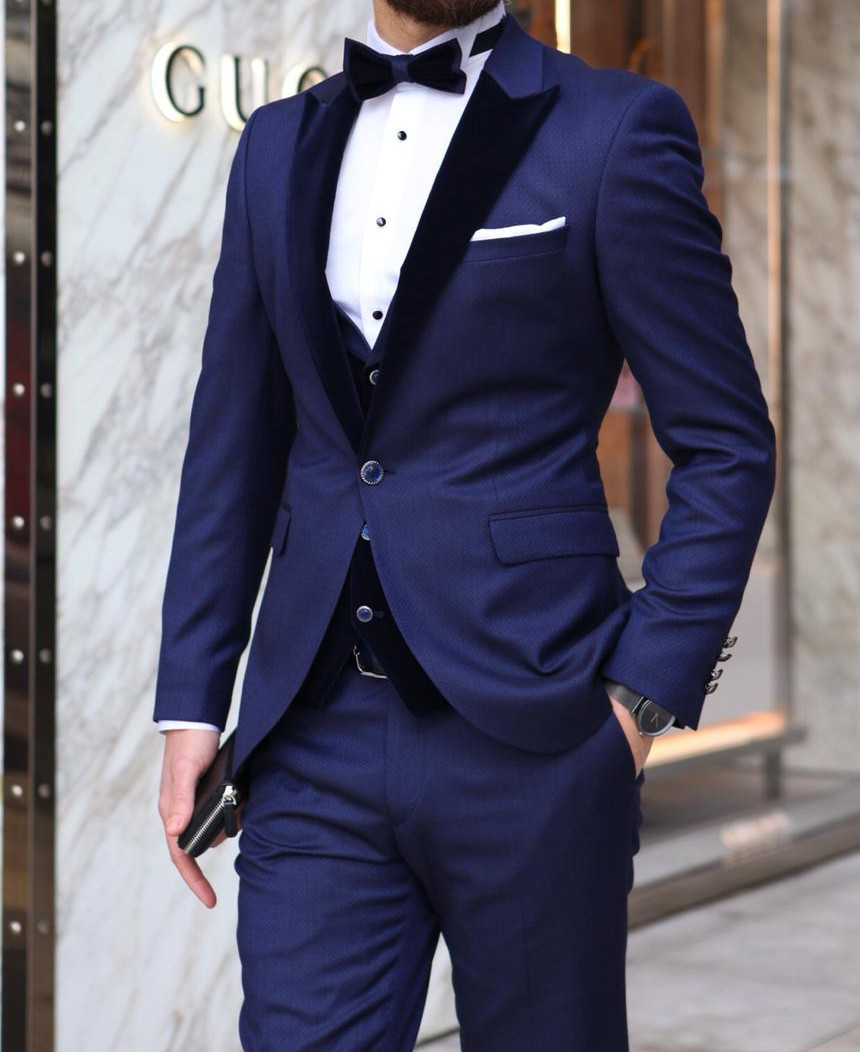F_M_suit jacket: (157, 64, 765, 735)
F_dress pants: (223, 697, 653, 1032)
